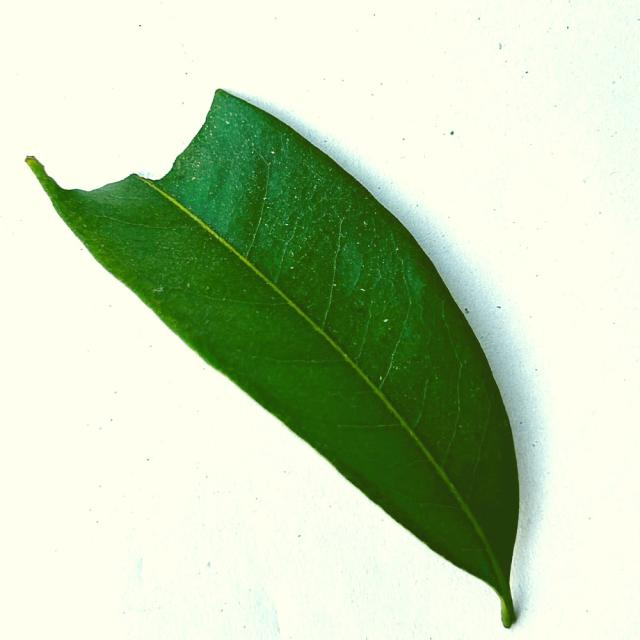Deficiency Leaf: (10, 86, 214, 181)
Lychee: (33, 91, 518, 626)
